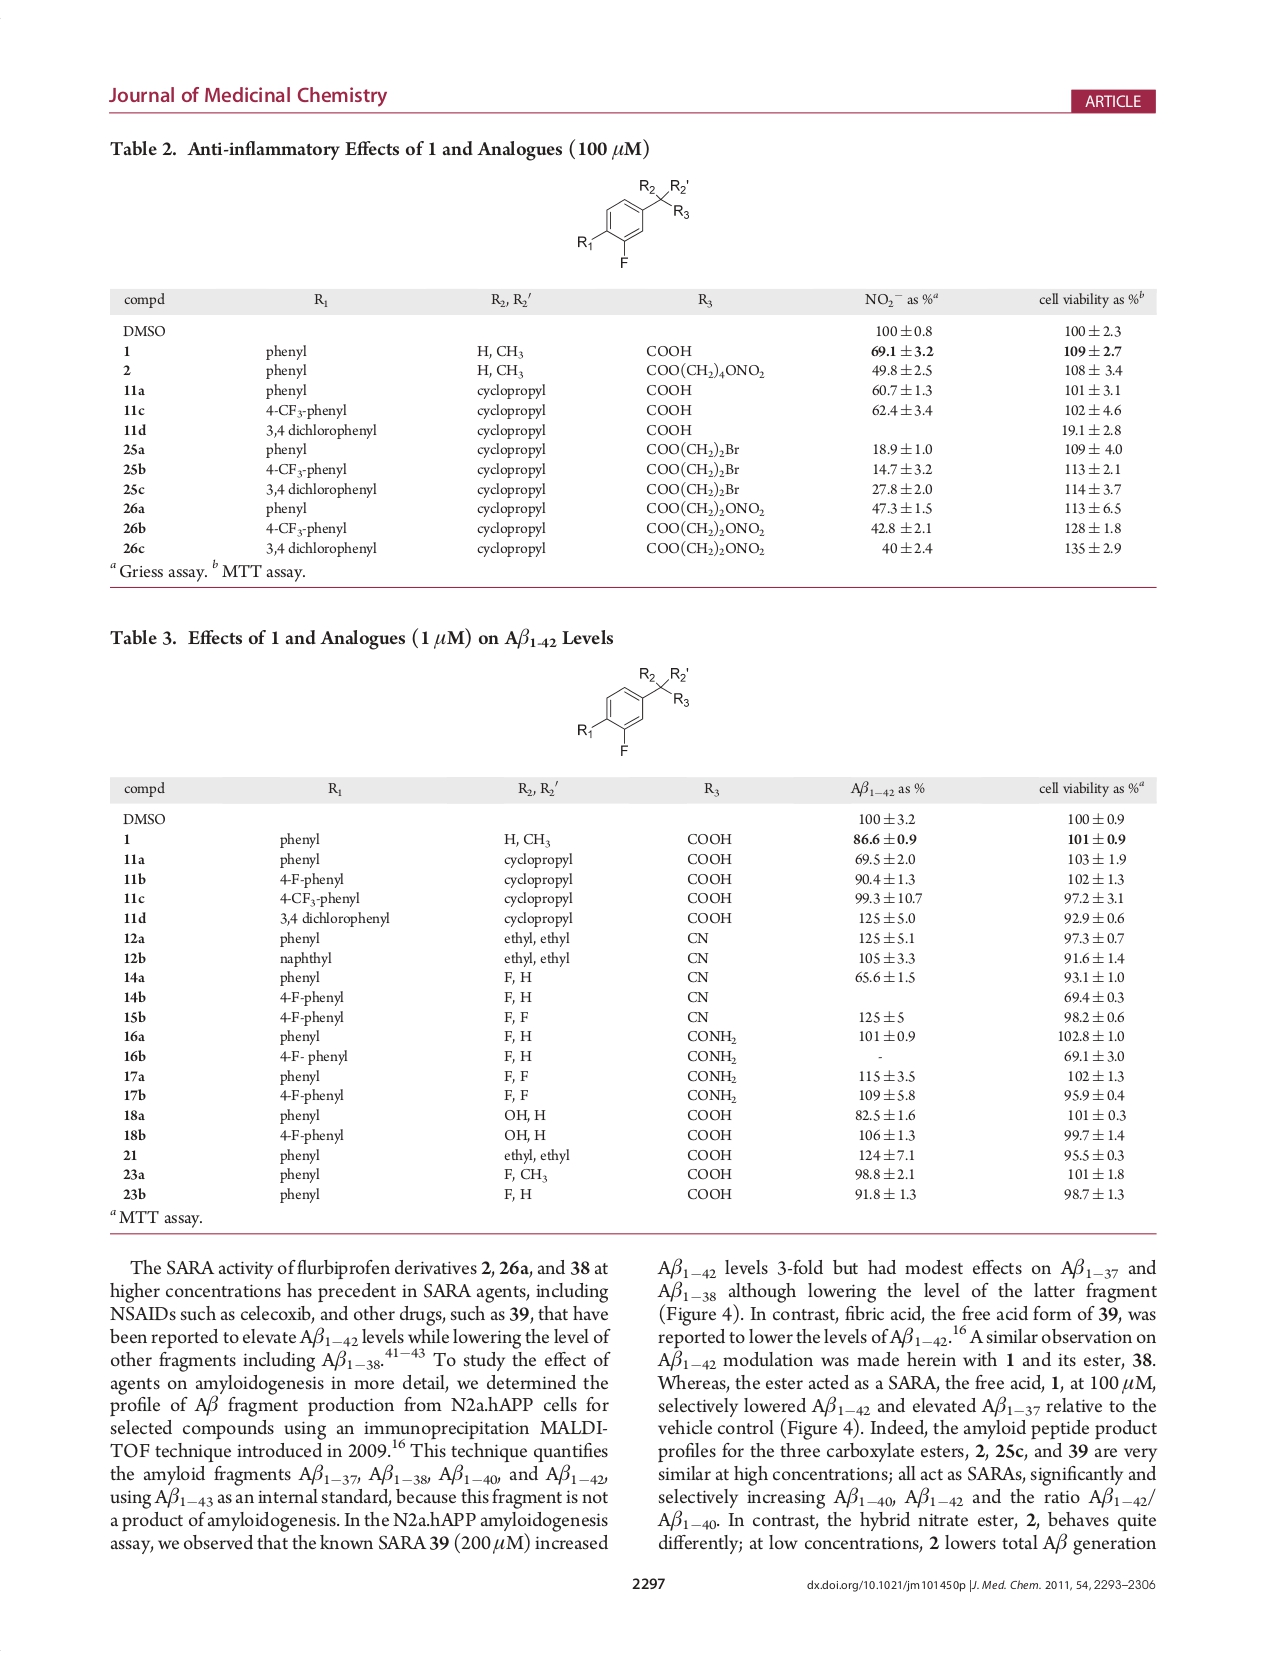exist_molecular: (573, 173, 696, 274), (572, 661, 697, 759)
